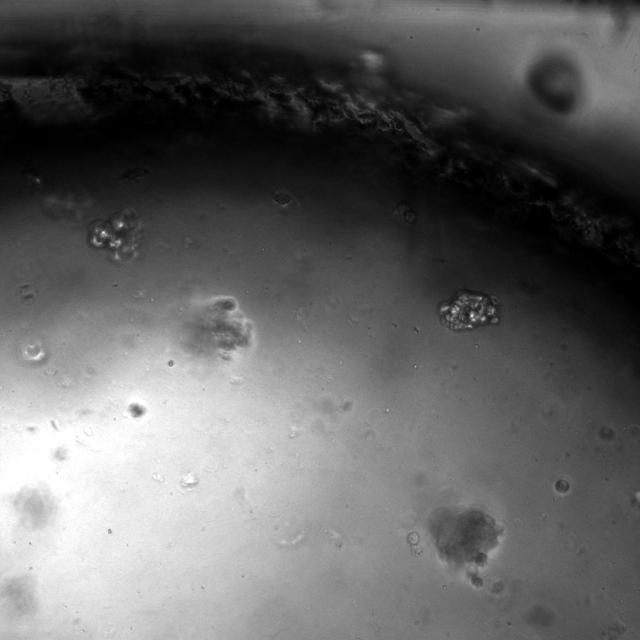organoid: (427, 507, 503, 586), (182, 296, 252, 358), (88, 210, 141, 259), (439, 289, 500, 331), (407, 531, 422, 555), (554, 478, 569, 492)
